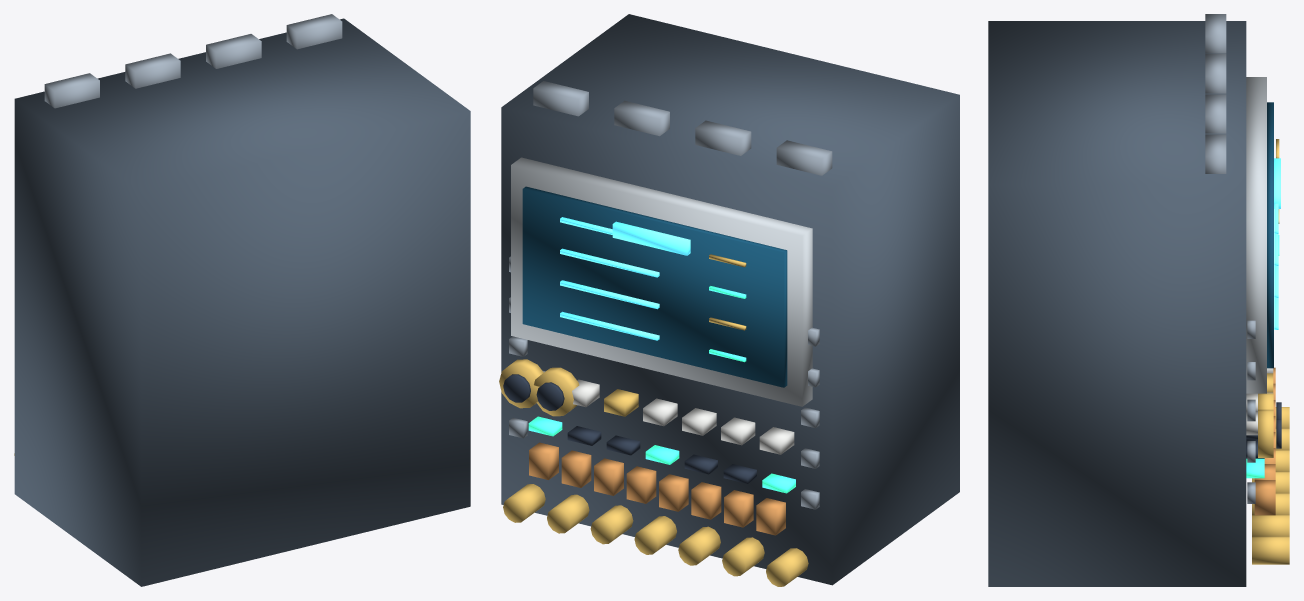
Rendered from L87_39_SafeSpinUpSequencer_Fitted.fbx.
The picture shows the model from 3 angles, left to right: view 1: azimuth 30°, elevation 25°; view 2: azimuth 150°, elevation 25°; view 3: azimuth 270°, elevation 25°; orthographic projection.
Visible parts, largest first — view 1: L87_SafeSpinUpSequencer_Static__tint1A2430, L87_SafeSpinUpSequencer_ANIM_SAFE_SPINUP_PROFILE__tint617387; view 2: L87_SafeSpinUpSequencer_Static__tint1A2430, L87_SafeSpinUpSequencer_Static__tint041F3B, L87_SafeSpinUpSequencer_Static__tintB0BFCC, L87_SafeSpinUpSequencer_Static__tintF5A62B, L87_SafeSpinUpSequencer_Static__tintD96621, L87_SafeSpinUpSequencer_ANIM_SAFE_SPINUP_PROFILE__tint617387, L87_SafeSpinUpSequencer_Static__tintE3E6E0, L87_SafeSpinUpSequencer_Static__tint0A0F1A, L87_SafeSpinUpSequencer_Static__tint1CC7FF, L87_SafeSpinUpSequencer_Static__tint617387, L87_SafeSpinUpSequencer_Static__tint0FE88A, L87_SafeSpinUpSequencer_ANIM_SAFE_SPINUP_PROFILE__tint1CC7FF; view 3: L87_SafeSpinUpSequencer_Static__tint1A2430, L87_SafeSpinUpSequencer_Static__tintB0BFCC, L87_SafeSpinUpSequencer_Static__tintF5A62B, L87_SafeSpinUpSequencer_ANIM_SAFE_SPINUP_PROFILE__tint617387, L87_SafeSpinUpSequencer_Static__tint041F3B, L87_SafeSpinUpSequencer_Static__tintD96621, L87_SafeSpinUpSequencer_Static__tint617387, L87_SafeSpinUpSequencer_Static__tint1CC7FF, L87_SafeSpinUpSequencer_Static__tint0A0F1A, L87_SafeSpinUpSequencer_Static__tintE3E6E0, L87_SafeSpinUpSequencer_Static__tint0FE88A.
Boxes of the visible parts, bbox=[...] form: L87_SafeSpinUpSequencer_Static__tint1A2430: bbox=[14, 18, 470, 586]; L87_SafeSpinUpSequencer_ANIM_SAFE_SPINUP_PROFILE__tint617387: bbox=[44, 14, 342, 108]; L87_SafeSpinUpSequencer_Static__tint1A2430: bbox=[501, 14, 959, 585]; L87_SafeSpinUpSequencer_Static__tint041F3B: bbox=[522, 186, 787, 387]; L87_SafeSpinUpSequencer_Static__tintB0BFCC: bbox=[511, 157, 812, 406]; L87_SafeSpinUpSequencer_Static__tintF5A62B: bbox=[499, 254, 808, 586]; L87_SafeSpinUpSequencer_Static__tintD96621: bbox=[529, 442, 785, 535]; L87_SafeSpinUpSequencer_ANIM_SAFE_SPINUP_PROFILE__tint617387: bbox=[533, 81, 832, 175]; L87_SafeSpinUpSequencer_Static__tintE3E6E0: bbox=[542, 370, 794, 454]; L87_SafeSpinUpSequencer_Static__tint0A0F1A: bbox=[503, 374, 756, 483]; L87_SafeSpinUpSequencer_Static__tint1CC7FF: bbox=[560, 217, 659, 340]; L87_SafeSpinUpSequencer_Static__tint617387: bbox=[509, 256, 819, 509]; L87_SafeSpinUpSequencer_Static__tint0FE88A: bbox=[528, 286, 795, 493]; L87_SafeSpinUpSequencer_ANIM_SAFE_SPINUP_PROFILE__tint1CC7FF: bbox=[612, 221, 690, 255]; L87_SafeSpinUpSequencer_Static__tint1A2430: bbox=[988, 21, 1246, 586]; L87_SafeSpinUpSequencer_Static__tintB0BFCC: bbox=[1246, 77, 1266, 393]; L87_SafeSpinUpSequencer_Static__tintF5A62B: bbox=[1252, 139, 1289, 564]; L87_SafeSpinUpSequencer_ANIM_SAFE_SPINUP_PROFILE__tint617387: bbox=[1205, 14, 1226, 173]; L87_SafeSpinUpSequencer_Static__tint041F3B: bbox=[1267, 102, 1273, 368]; L87_SafeSpinUpSequencer_Static__tintD96621: bbox=[1254, 367, 1275, 515]; L87_SafeSpinUpSequencer_Static__tint617387: bbox=[1247, 320, 1255, 503]; L87_SafeSpinUpSequencer_Static__tint1CC7FF: bbox=[1274, 203, 1278, 329]; L87_SafeSpinUpSequencer_Static__tint0A0F1A: bbox=[1246, 402, 1281, 458]; L87_SafeSpinUpSequencer_Static__tintE3E6E0: bbox=[1246, 368, 1273, 435]; L87_SafeSpinUpSequencer_Static__tint0FE88A: bbox=[1246, 235, 1279, 478].
Bounding box in the file's own units: 9.99 × 11.95 × 7.78.
